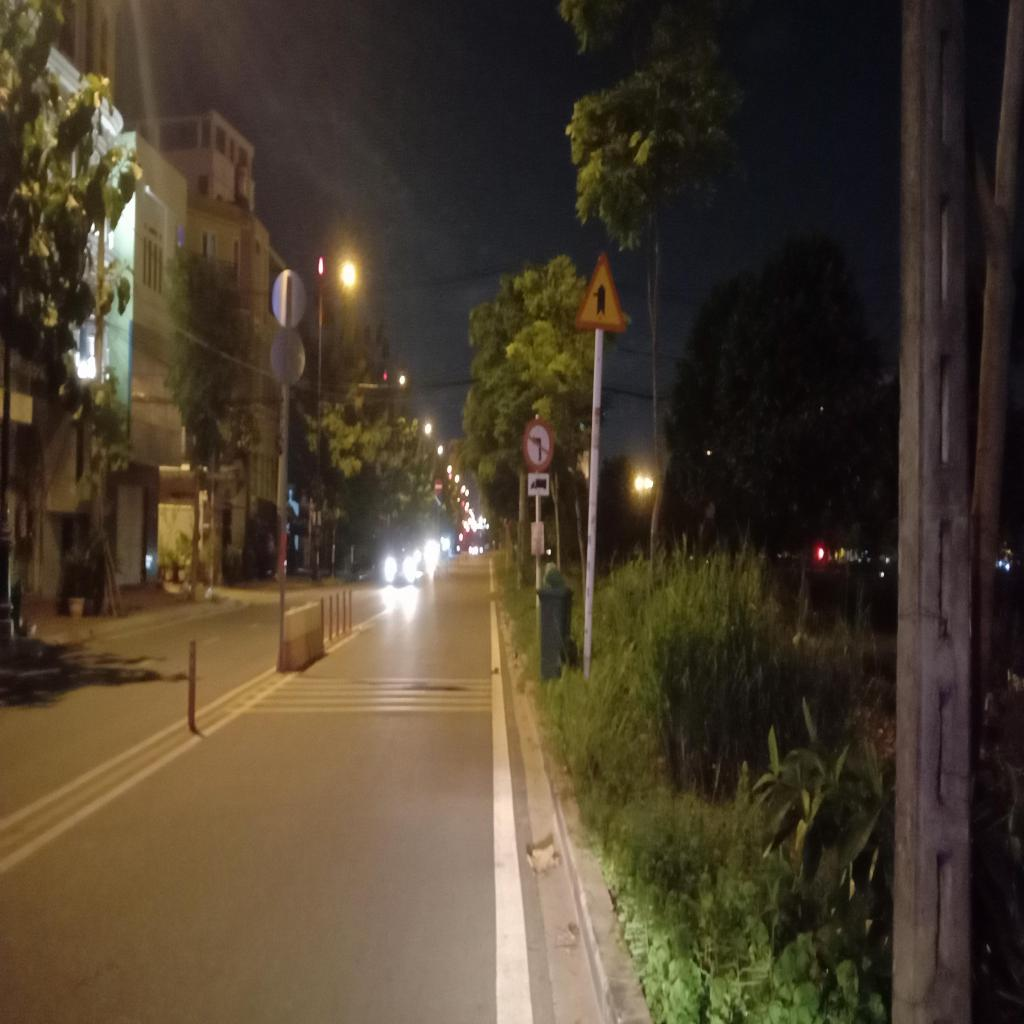cam_re_trai: (522, 419, 554, 470)
giao_nhau_voi_duong_khong_uu_tien: (574, 252, 628, 331)
khac: (527, 472, 551, 498)
